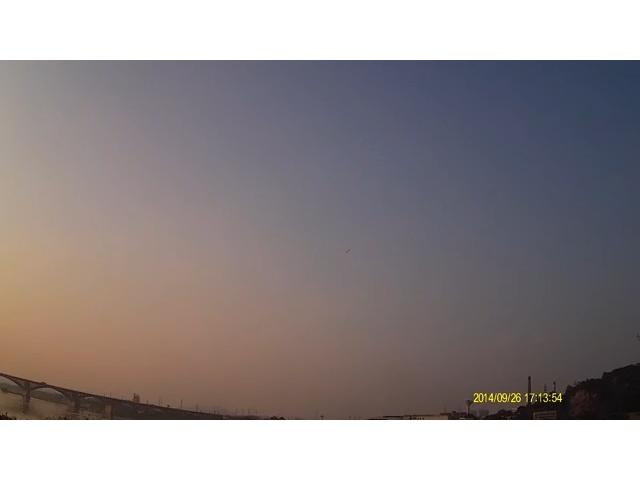Anti-Drone: (337, 239, 357, 260)
